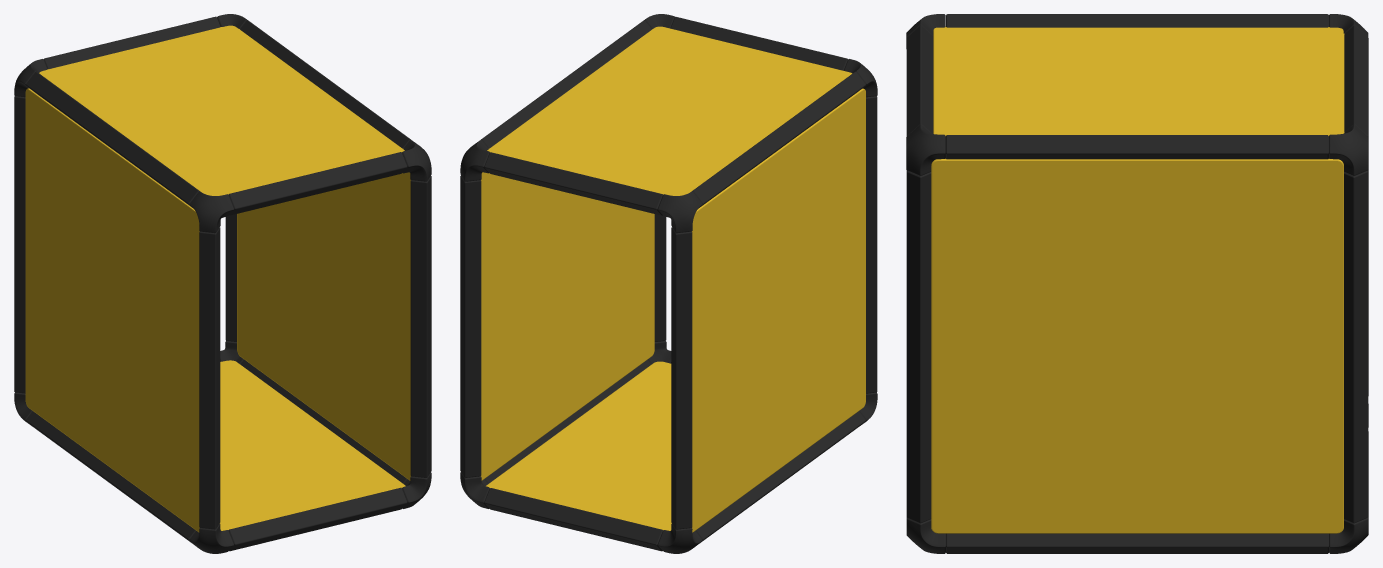
3 views of the same model, side by side, from view 1: azimuth 30°, elevation 25°; view 2: azimuth 150°, elevation 25°; view 3: azimuth 270°, elevation 25° (orthographic). The views are drawn at different scales.
Parts seen in each view (by area): view 1: 229x374x374; view 2: 229x374x374; view 3: 229x374x374.
Boxes of the visible parts, box(x1,y1,x2,y2) form: 229x374x374: box(14, 14, 431, 553); 229x374x374: box(460, 14, 877, 553); 229x374x374: box(906, 14, 1368, 553).
Bounding box in the file's own units: 0.3067 × 0.4516 × 0.4513.
